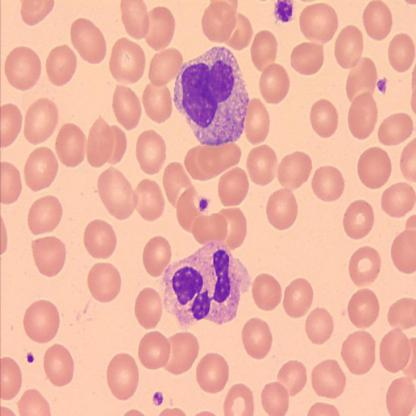Monocyte: (172, 43, 252, 148)
